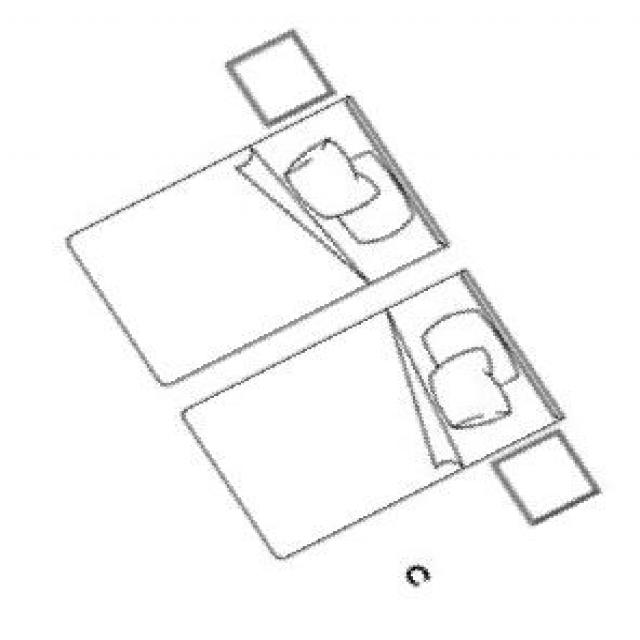bed: (63, 28, 599, 554)
